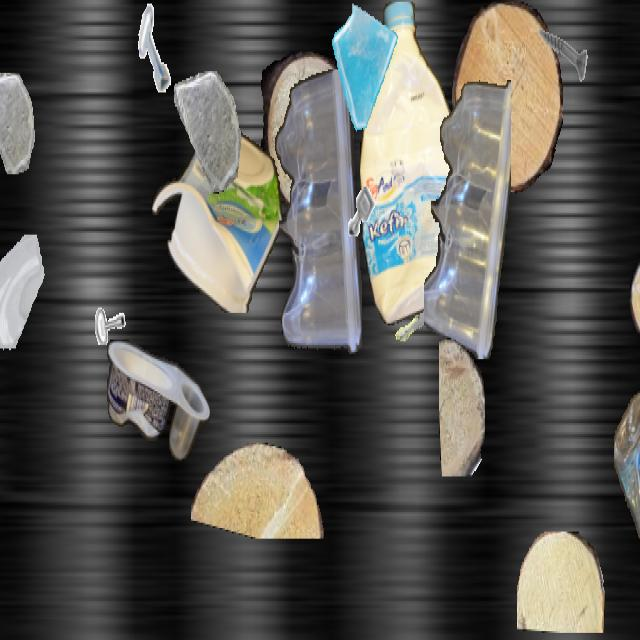glass: (328, 2, 402, 133), (174, 71, 242, 192), (0, 234, 50, 380), (0, 73, 36, 172)
metal: (378, 271, 436, 374), (530, 2, 588, 105), (130, 2, 182, 94), (85, 265, 129, 343), (340, 174, 382, 249)
plastic: (360, 2, 462, 325), (272, 69, 362, 361), (152, 124, 282, 313), (424, 73, 510, 357), (107, 340, 209, 460), (614, 391, 640, 590)
wood: (452, 2, 562, 194), (258, 52, 354, 212), (191, 442, 327, 538), (517, 532, 605, 631), (439, 338, 485, 476), (630, 260, 640, 352)
